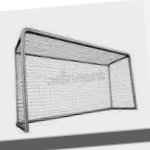goals: (12, 26, 140, 132)
